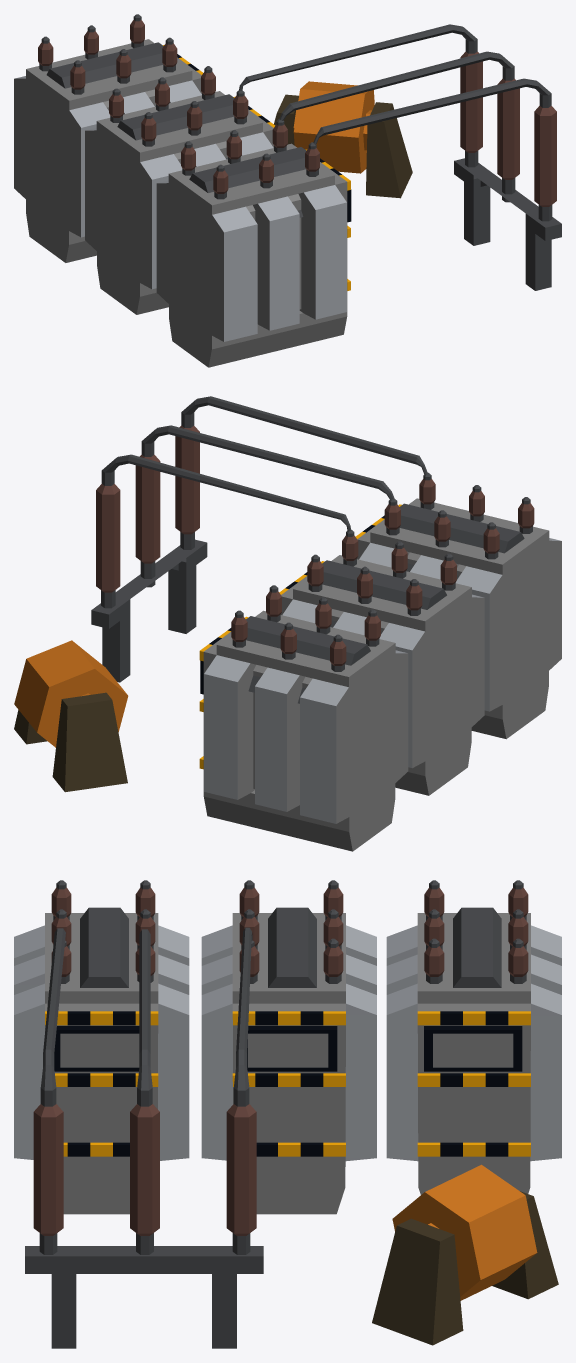
File: Transformators.fbx
3 views of the same model, one above another, from view 1: azimuth 30°, elevation 25°; view 2: azimuth 150°, elevation 25°; view 3: azimuth 270°, elevation 25° (orthographic). The views are drawn at different scales.
Parts seen in each view (by area): view 1: base.009, glow.006; view 2: base.009, glow.006; view 3: base.009, glow.006.
Boxes of the visible parts, <box> form: base.009: <box>14,14,561,367</box>; glow.006: <box>460,51,556,206</box>; base.009: <box>14,396,561,851</box>; glow.006: <box>96,425,199,592</box>; base.009: <box>14,880,561,1348</box>; glow.006: <box>33,1104,256,1235</box>.
Size of the model in its own units: 345 by 203 by 359.
